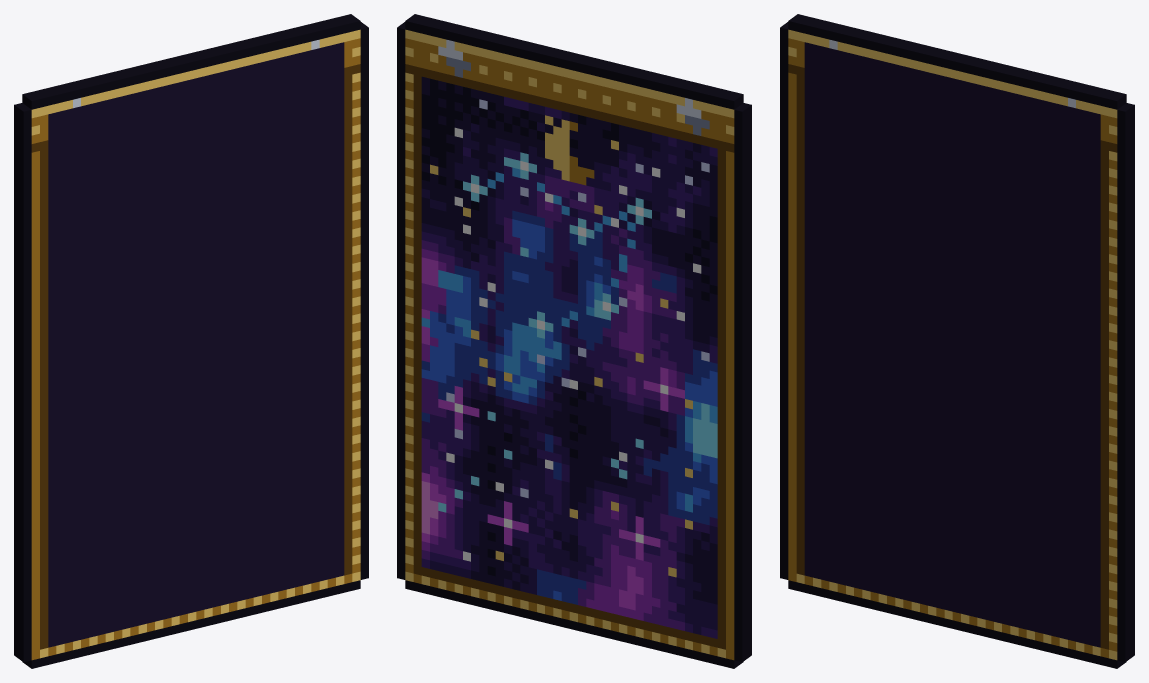
Rendered from nebula_drift_cape.glb.
The picture shows the model from 3 angles, left to right: view 1: azimuth 30°, elevation 25°; view 2: azimuth 150°, elevation 25°; view 3: azimuth 330°, elevation 25°; orthographic projection.
Visible parts, largest first — view 1: Nebula Drift Cape; view 2: Nebula Drift Cape; view 3: Nebula Drift Cape.
Boxes of the visible parts, <box> form: Nebula Drift Cape: <box>14,14,368,668</box>; Nebula Drift Cape: <box>397,14,751,668</box>; Nebula Drift Cape: <box>780,14,1134,668</box>.
Bounding box in the file's own units: 0.6562 × 1.03 × 0.0312.
1 material, 1 textured.
